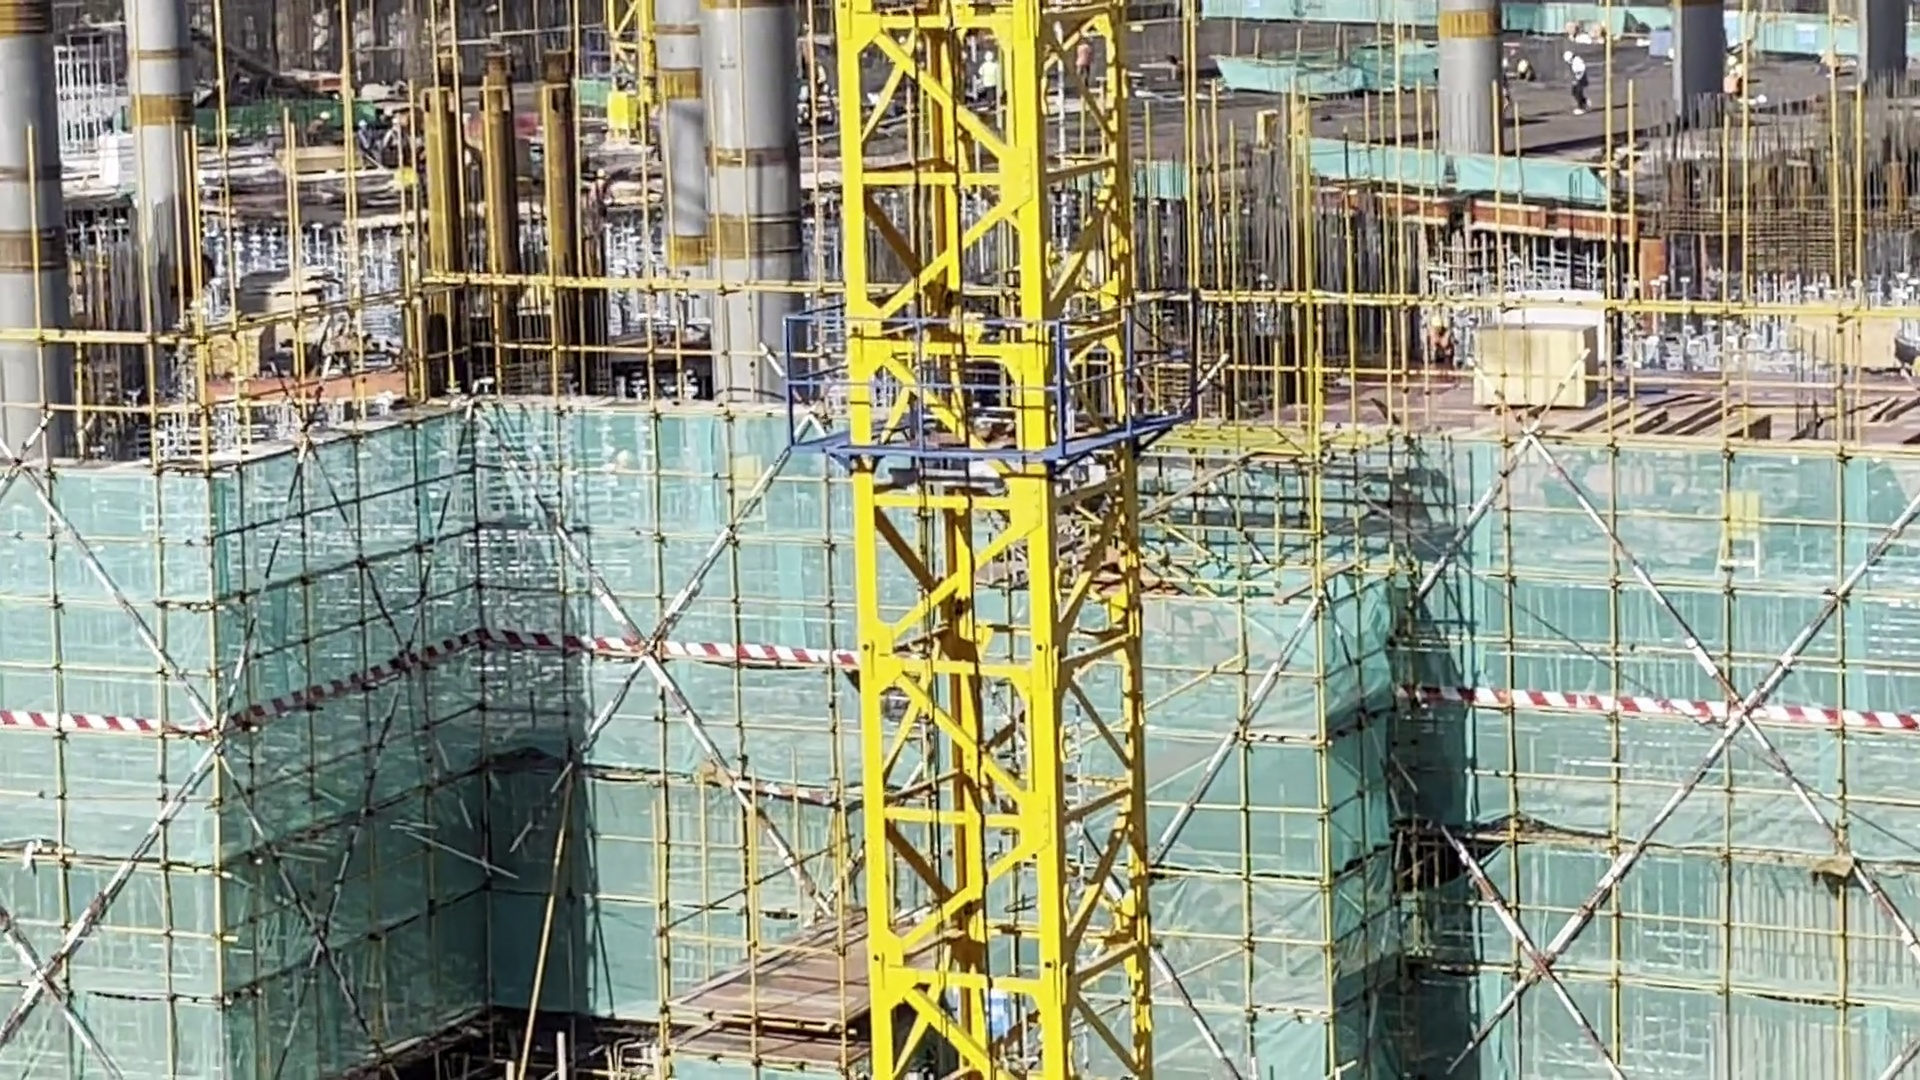ebox: (604, 93, 635, 134)
person: (1566, 51, 1589, 119), (983, 50, 1001, 103)
